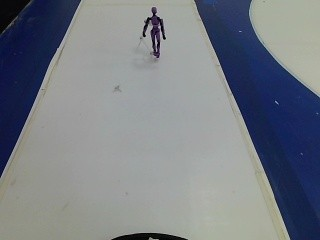pedestrian: (138, 5, 166, 60)
